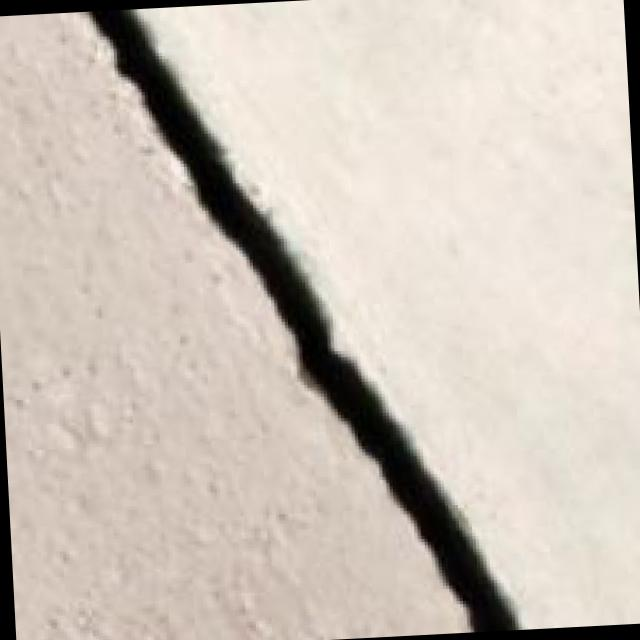crack: (54, 0, 519, 640)
